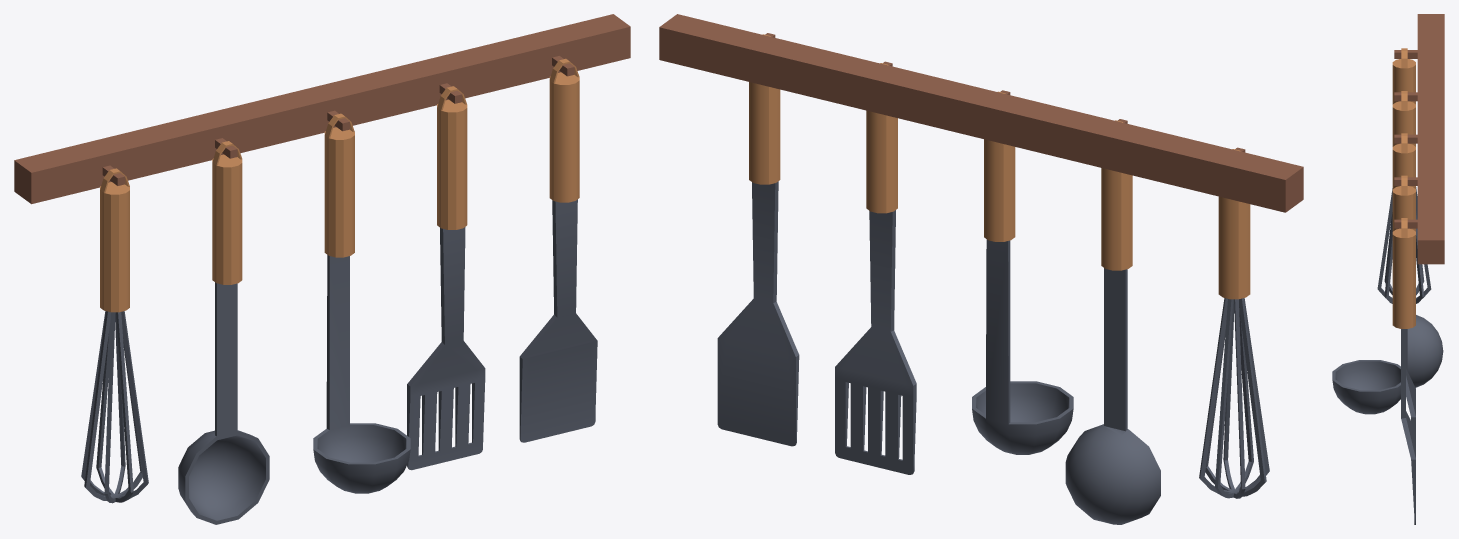
The model's file is Cooking Ware.fbx.
3 views of the same model, side by side, from view 1: azimuth 30°, elevation 25°; view 2: azimuth 150°, elevation 25°; view 3: azimuth 270°, elevation 25° (orthographic). The views are drawn at different scales.
Parts seen in each view (by area): view 1: Hanger, Set_1, Set_2, Set_4, Set_3, Set_5; view 2: Hanger, Set_1, Set_2, Set_4, Set_3, Set_5; view 3: Hanger, Set_3, Set_1, Set_4, Set_5, Set_2.
Boxes of the visible parts, x1,y1,x2,y2 form: Hanger: (14,14,630,204); Set_1: (519,58,597,442); Set_2: (407,86,485,470); Set_4: (178,141,269,524); Set_3: (313,113,410,493); Set_5: (81,168,148,503); Hanger: (659,14,1303,212); Set_1: (717,34,799,446); Set_2: (835,63,916,474); Set_4: (1065,120,1160,524); Set_3: (972,91,1073,454); Set_5: (1199,149,1269,498); Hanger: (1394,14,1444,264); Set_3: (1332,133,1415,414); Set_1: (1392,218,1415,524); Set_4: (1392,91,1443,387); Set_5: (1377,48,1431,303); Set_2: (1392,175,1415,430).
Size of the model in its own units: 160 by 99.16 by 33.52.
